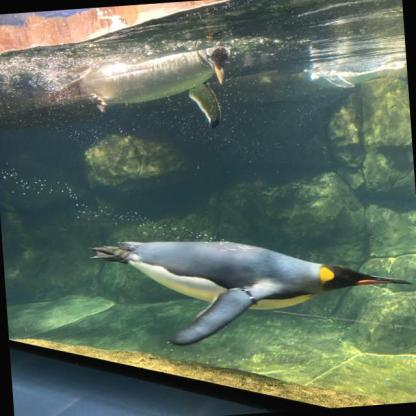penguin: (88, 219, 415, 352), (51, 44, 241, 137), (306, 53, 407, 91)
